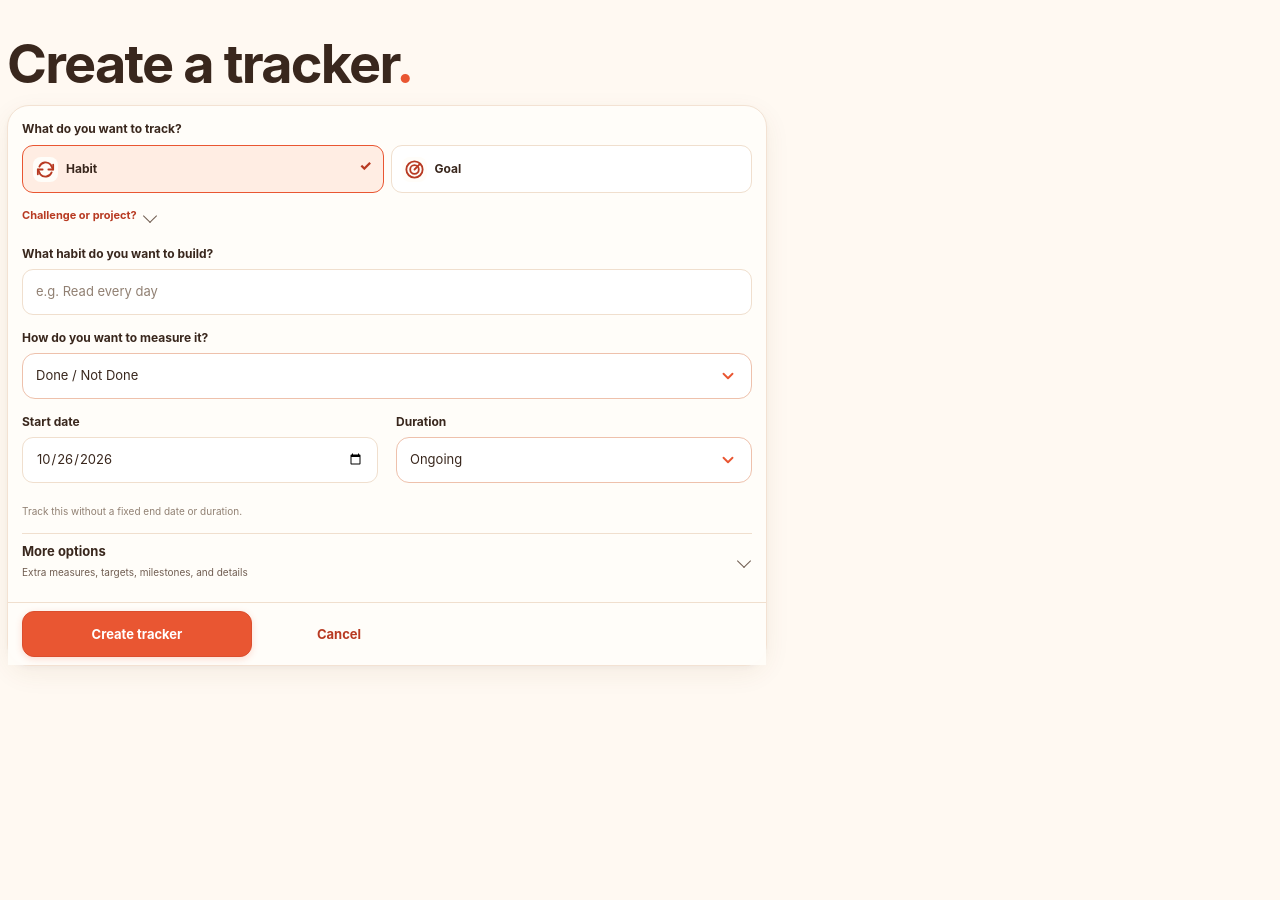
Test: tracker setup flow › requires a useful name before saving
This screenshot has width=1280, height=900.
Click the button "Create tracker" at (137, 634), box [22,611,252,657]
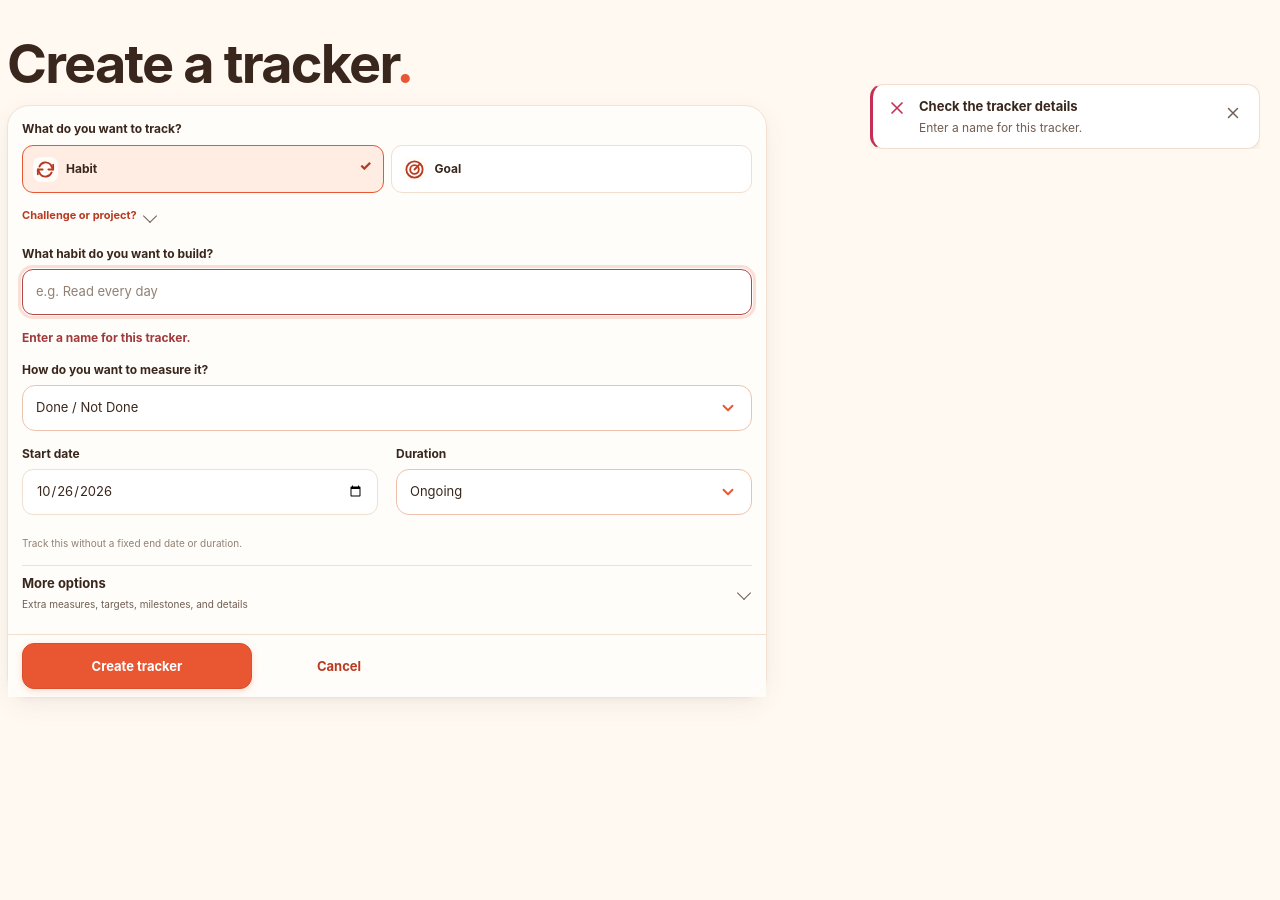
Expected: the message "Check the tracker details" shows "Enter a name for this tracker.", [919,120,1082,135]
Expected: the text "Enter a name for this tracker." below "What habit do you want to build?" is shown, [22,330,190,345]
